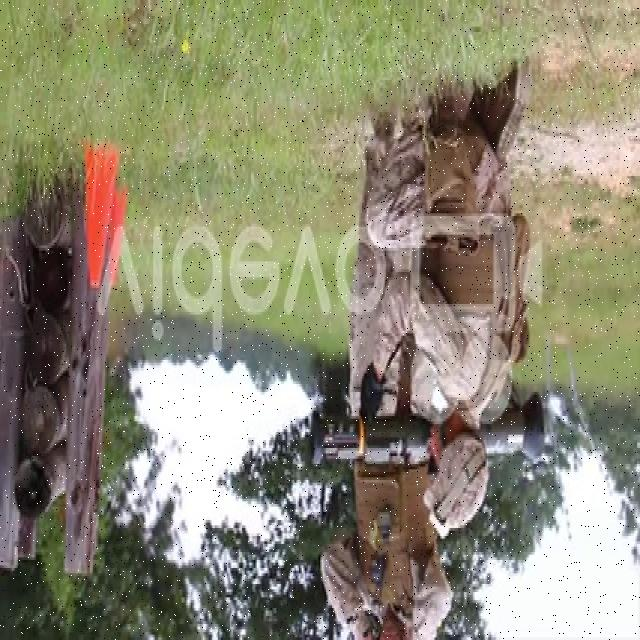bazooka: (306, 385, 550, 473)
